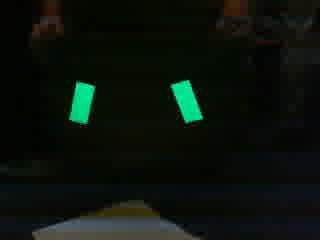target: (64, 76, 209, 127)
